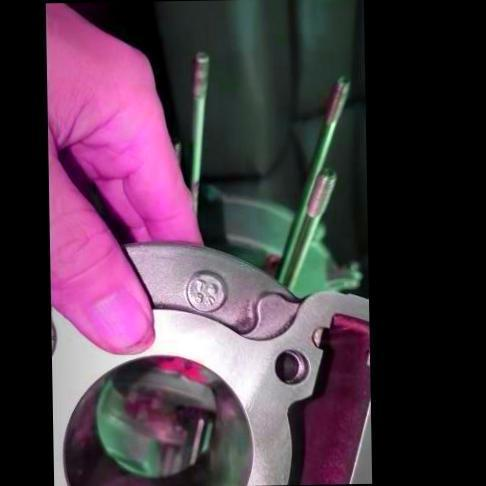hole: (274, 348, 312, 388)
